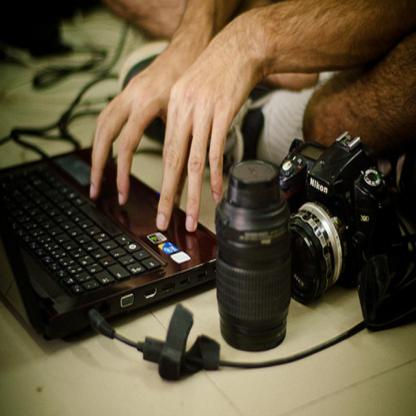board: (0, 126, 221, 342)
